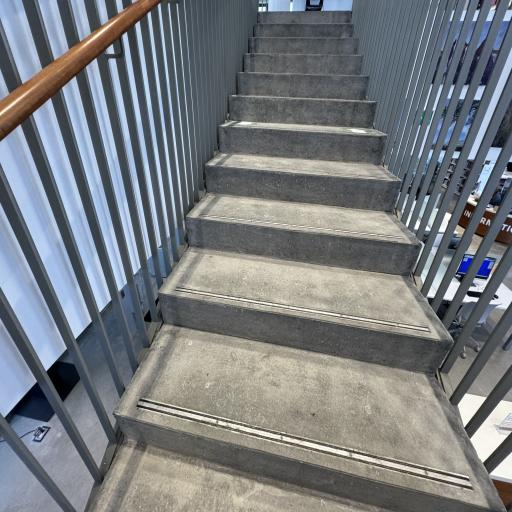Stairs: (90, 11, 504, 512), (115, 325, 500, 512), (158, 248, 452, 372), (90, 439, 386, 512), (186, 193, 421, 276), (206, 153, 401, 212), (219, 121, 386, 164), (244, 53, 363, 97), (230, 72, 369, 109), (230, 95, 376, 129), (249, 37, 358, 55), (254, 23, 353, 38), (258, 11, 351, 24)
